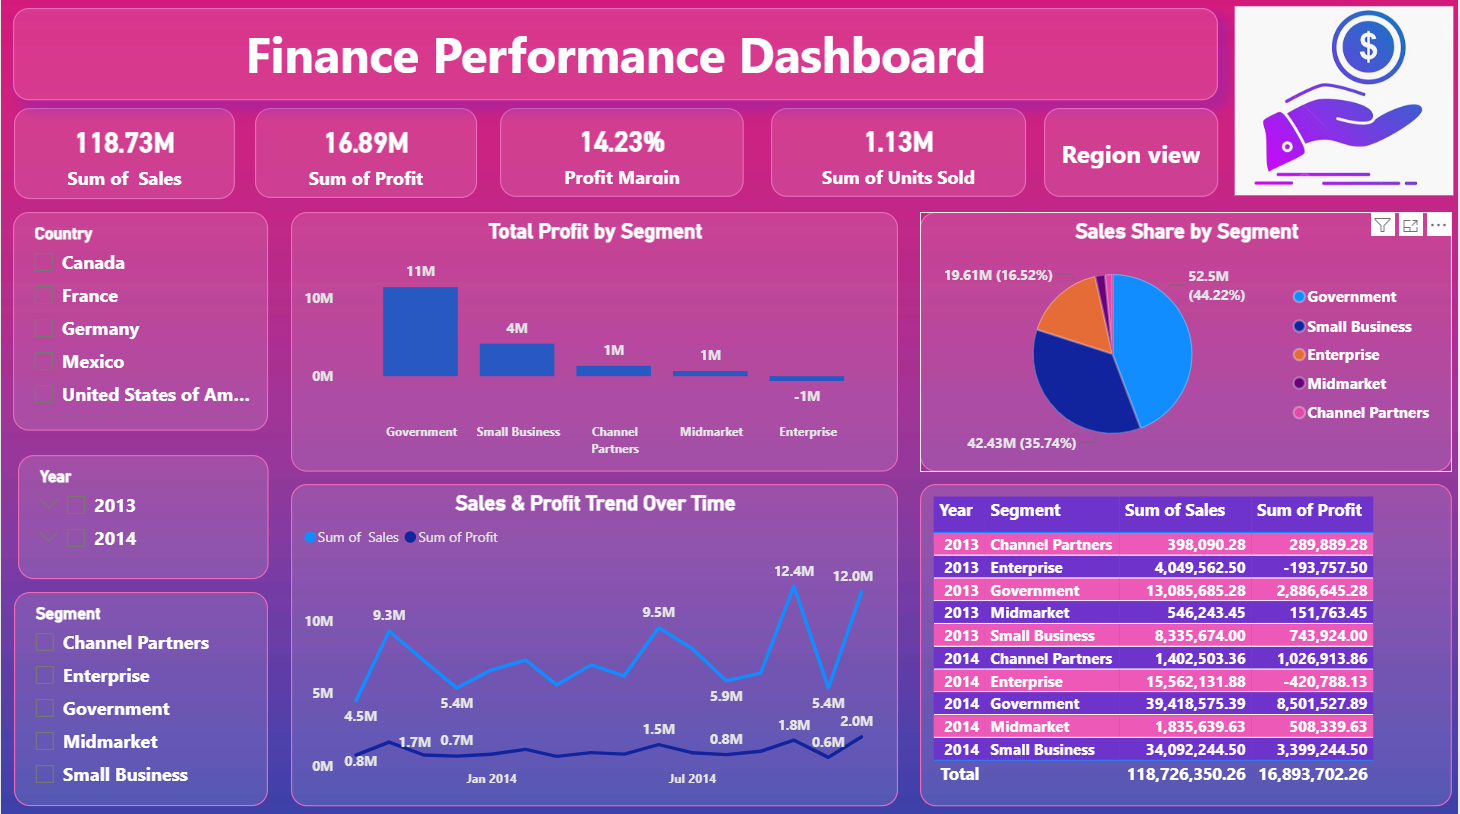

Layout of this report page (visuals, bound fields, positions):
{"tool":"powerbi","page":{"name":"Q9 Dashboard","canvas":[1280,720],"ordinal":0},"visuals":[{"type":"card","fields":{"Values":["Sum(financials.Profit)"]},"box":[223,98.3,194.9,79],"z":0},{"type":"card","fields":{"Values":["Sum(financials. Sales)"]},"box":[11.4,98.3,194,79.9],"z":1000},{"type":"card","fields":{"Values":["Sum(financials.Units Sold)"]},"box":[676.1,98.3,223.9,78.1],"z":2000},{"type":"lineChart","title":"Sales & Profit Trend Over Time","fields":{"Category":["financials.Date"],"Y":["Sum(financials. Sales)","Sum(financials.Profit)"]},"box":[254.6,428.5,533,282.7],"z":3000},{"type":"clusteredColumnChart","fields":{"Category":["financials.Segment"],"Y":["financials.Total Profit"]},"box":[254.6,189.7,533,228.3],"z":4000},{"type":"pieChart","title":"Sales Share by Segment","fields":{"Category":["financials.Segment"],"Y":["Sum(financials. Sales)"]},"box":[806.9,189.7,467.1,228.3],"z":5000},{"type":"tableEx","fields":{"Values":["F_Date.Date.Variation.Date Hierarchy.Year","financials.Segment","Sum(financials. Sales)","Sum(financials.Profit)"]},"box":[806.9,428.5,467.1,282.7],"z":6000},{"type":"slicer","fields":{"Values":["financials.Country"]},"box":[10.5,189.7,223.9,192.3],"z":7000},{"type":"slicer","fields":{"Values":["financials.Segment"]},"box":[11.4,523.3,223,187.9],"z":8000},{"type":"card","fields":{"Values":["financials.Profit Margin"]},"box":[438.1,98.3,214.2,78.1],"z":9000},{"type":"slicer","fields":{"Values":["F_Date.Date.Variation.Date Hierarchy.Year","F_Date.Date.Variation.Date Hierarchy.Quarter","F_Date.Date.Variation.Date Hierarchy.Month","F_Date.Date.Variation.Date Hierarchy.Day"]},"box":[14.9,403,219.5,108.9],"z":10000},{"type":"textbox","box":[10.5,10.5,1058,80.8],"z":11000},{"type":"image","box":[1078.2,0,201.6,183.3],"z":12000},{"type":"actionButton","box":[915.8,98.3,152.8,78.1],"z":13000}]}

Visuals, with their boxes in screenshot pixels (x1, y1, x2, y2), scaled from the page's 1280x720 canvas onto the 1460x814 screenshot:
card - Sum(financials.Profit): x1=254 y1=111 x2=477 y2=200
card - Sum(financials. Sales): x1=13 y1=111 x2=234 y2=201
card - Sum(financials.Units Sold): x1=771 y1=111 x2=1027 y2=199
"Sales & Profit Trend Over Time" lineChart: x1=290 y1=484 x2=898 y2=804
clusteredColumnChart - financials.Segment x financials.Total Profit: x1=290 y1=214 x2=898 y2=473
"Sales Share by Segment" pieChart: x1=920 y1=214 x2=1453 y2=473
tableEx - F_Date.Date.Variation.Date Hierarchy.Year x financials.Segment: x1=920 y1=484 x2=1453 y2=804
slicer - financials.Country: x1=12 y1=214 x2=267 y2=432
slicer - financials.Segment: x1=13 y1=592 x2=267 y2=804
card - financials.Profit Margin: x1=500 y1=111 x2=744 y2=199
slicer - F_Date.Date.Variation.Date Hierarchy.Year x F_Date.Date.Variation.Date Hierarchy.Quarter: x1=17 y1=456 x2=267 y2=579
textbox: x1=12 y1=12 x2=1219 y2=103
image: x1=1230 y1=0 x2=1459 y2=207
actionButton: x1=1045 y1=111 x2=1219 y2=199
